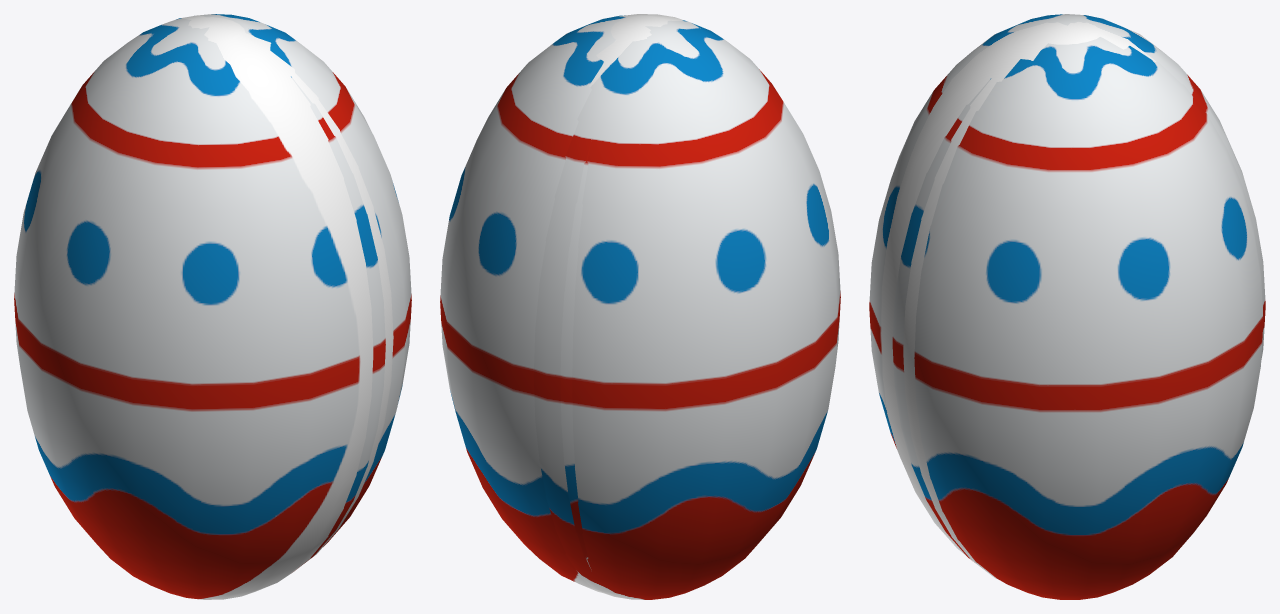
Rendered from eggfinal.fbx.
3 renders of one model, left to right at view 1: azimuth 30°, elevation 25°; view 2: azimuth 150°, elevation 25°; view 3: azimuth 270°, elevation 25°, orthographic.
Visible parts, largest first — view 1: group44; view 2: group44; view 3: group44.
Part boxes in pixels (bbox=[...]): group44: bbox=[14, 14, 411, 599]; group44: bbox=[440, 14, 840, 599]; group44: bbox=[869, 14, 1265, 599].
Size of the model in its own units: 4.03 by 6.26 by 4.02.
2 materials, 2 textured.
